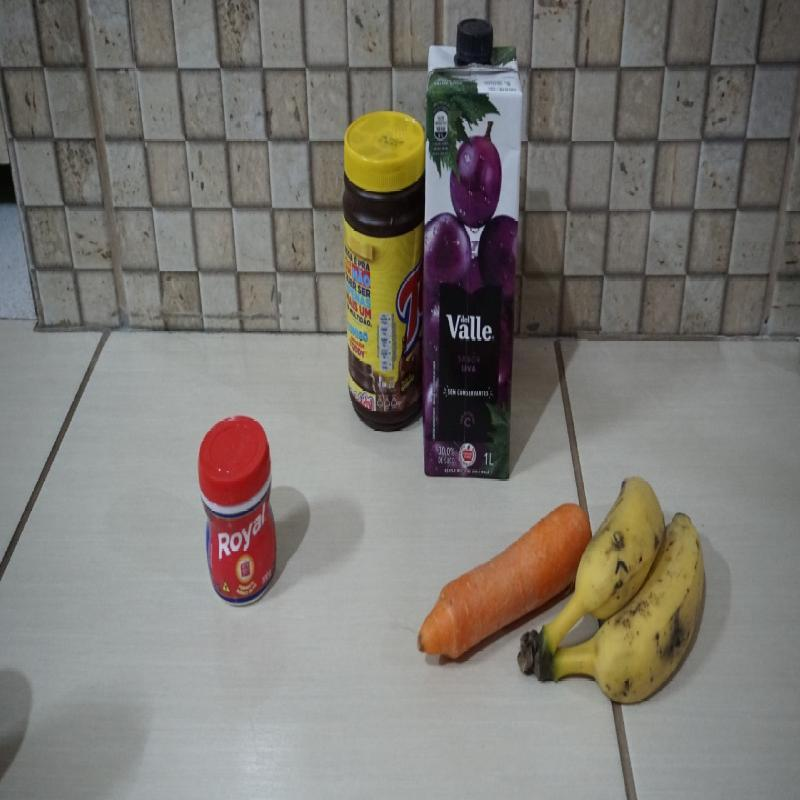Banana: (518, 481, 706, 706)
Carrot: (418, 502, 594, 661)
Chocolate Powder: (336, 108, 427, 432)
Yeast: (198, 416, 278, 602)
